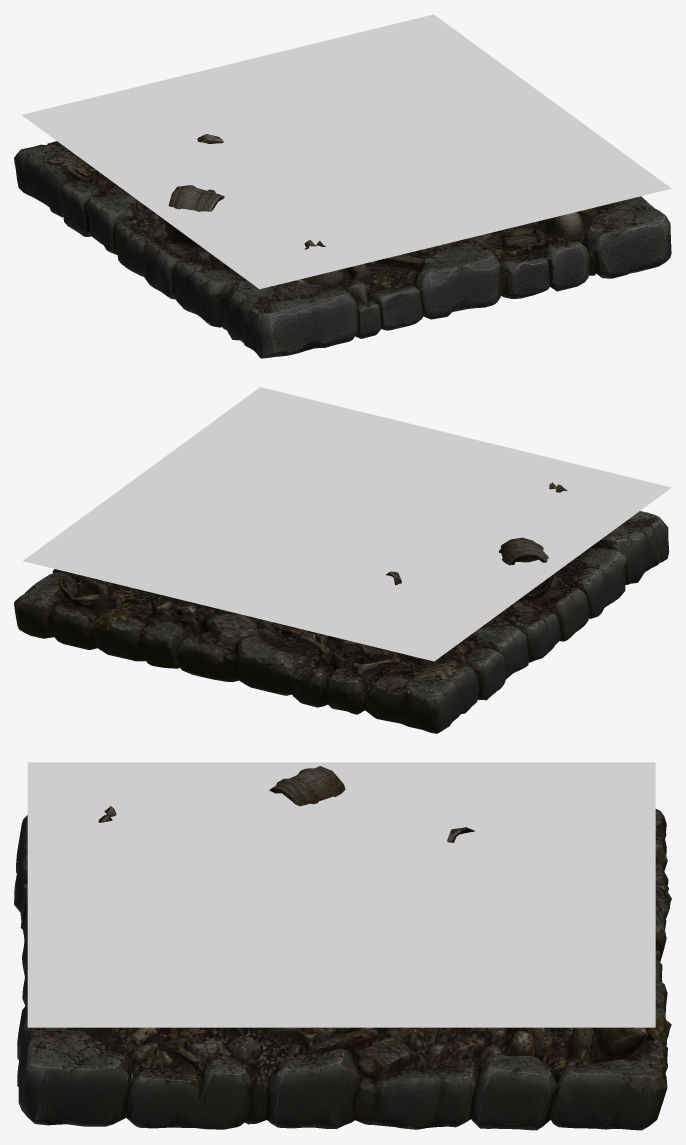
File: Floor_pit.fbx
3 views of the same model, one above another, from view 1: azimuth 30°, elevation 25°; view 2: azimuth 150°, elevation 25°; view 3: azimuth 270°, elevation 25° (orthographic). The views are drawn at different scales.
Visible parts, largest first — view 1: Floor_pit; view 2: Floor_pit; view 3: Floor_pit.
Boxes of the visible parts, x1=… form: Floor_pit: x1=14, y1=14, x2=671, y2=358; Floor_pit: x1=14, y1=387, x2=671, y2=733; Floor_pit: x1=14, y1=762, x2=671, y2=1130.
Size of the model in its own units: 312 by 61.48 by 314.
2 materials, 1 textured.
